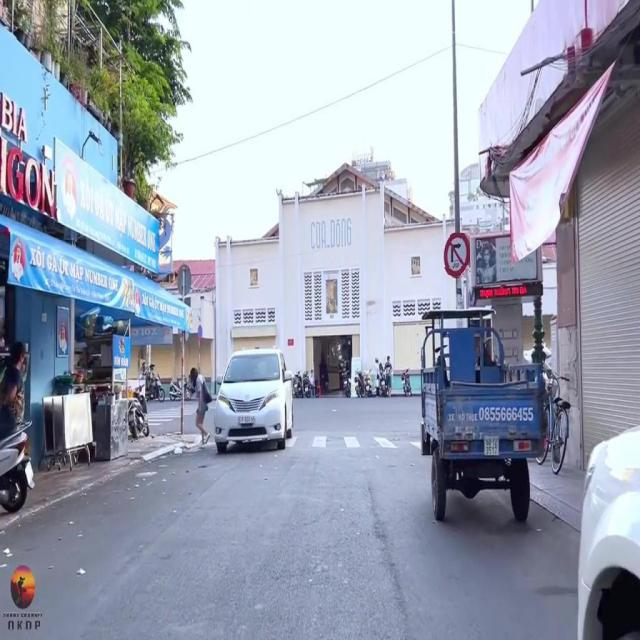cam_o_to_re_phai: (444, 233, 470, 278)
